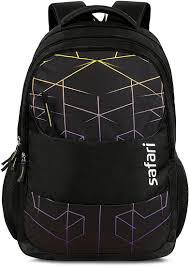backpack: (0, 0, 188, 261)
